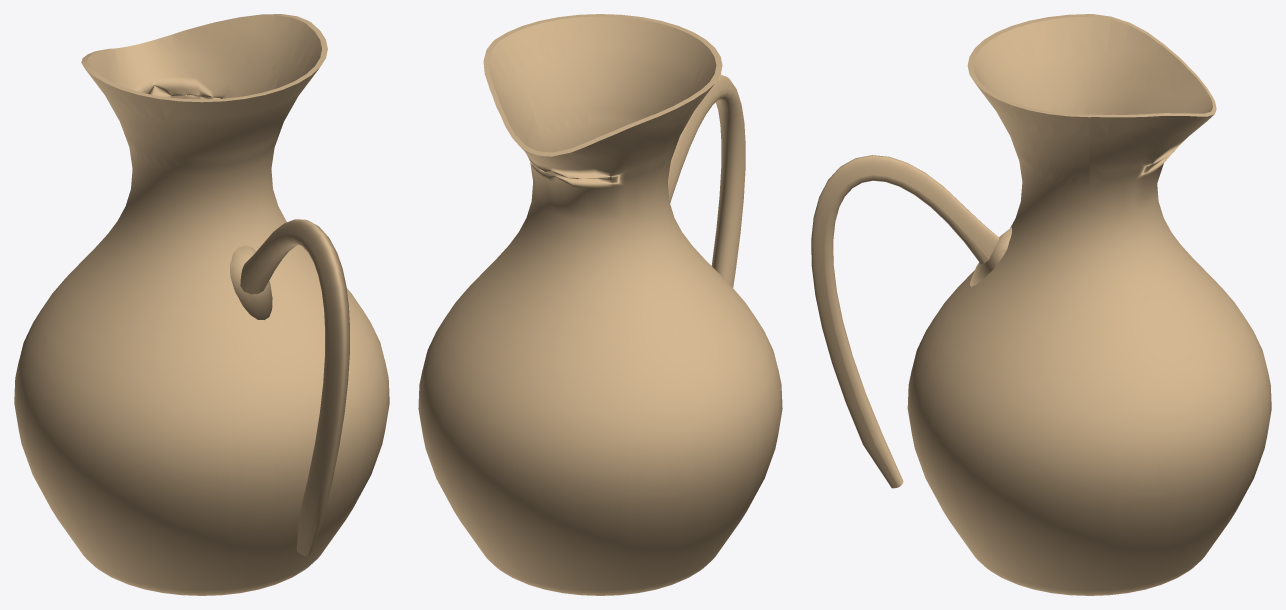
The picture shows the model from 3 angles, left to right: view 1: azimuth 30°, elevation 25°; view 2: azimuth 150°, elevation 25°; view 3: azimuth 270°, elevation 25°; orthographic projection. The views are drawn at different scales.
Parts seen in each view (by area): view 1: mesh3_mesh3-geometry, mesh1_mesh1-geometry, mesh2_mesh2-geometry; view 2: mesh3_mesh3-geometry, mesh1_mesh1-geometry; view 3: mesh3_mesh3-geometry, mesh1_mesh1-geometry, mesh2_mesh2-geometry.
Part boxes in pixels (x1,y1,x2,y2): mesh3_mesh3-geometry: (14, 14, 389, 595); mesh1_mesh1-geometry: (240, 219, 349, 556); mesh2_mesh2-geometry: (230, 245, 272, 319); mesh3_mesh3-geometry: (418, 14, 782, 595); mesh1_mesh1-geometry: (668, 74, 745, 287); mesh3_mesh3-geometry: (907, 14, 1271, 595); mesh1_mesh1-geometry: (811, 155, 999, 488); mesh2_mesh2-geometry: (970, 227, 1012, 286).
Size of the model in its own units: 0.4575 by 0.675 by 0.5788.
